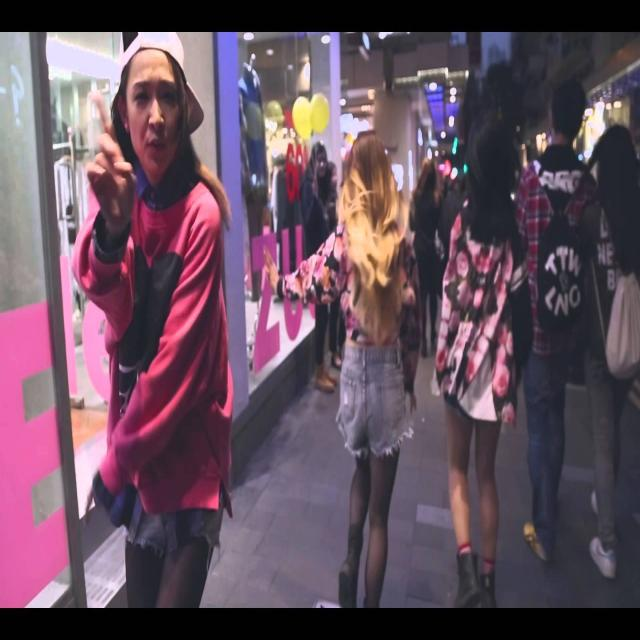body: (70, 32, 237, 609), (261, 127, 419, 609), (431, 110, 535, 610), (515, 77, 601, 565), (573, 117, 640, 589), (390, 95, 478, 392), (235, 44, 303, 330), (299, 133, 340, 398), (318, 161, 347, 368)
